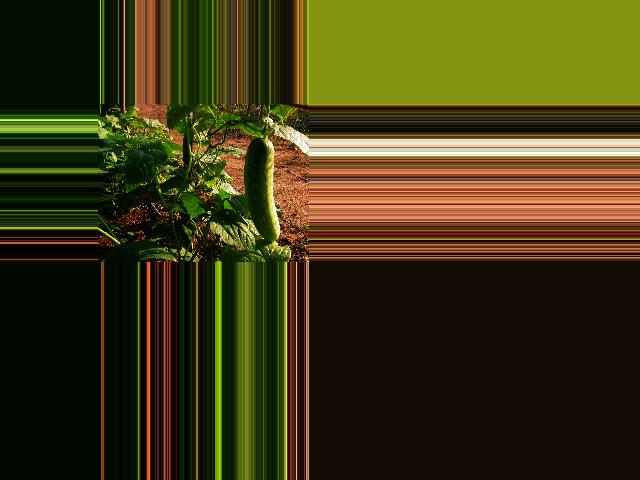cucumber: (244, 138, 280, 241)
